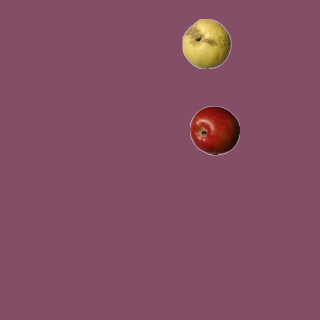Apple Braeburn: (189, 105, 239, 155)
Apple Golden 1: (181, 18, 231, 68)
